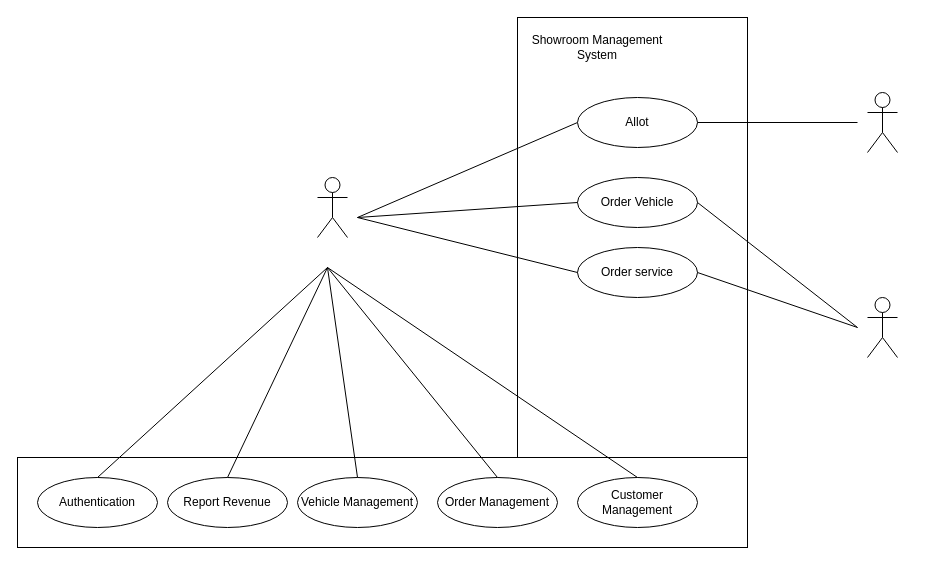
The diagram is 926 pixels wide and 565 high, and some of its shapes have lost their labels. The shapes that lost their labels are listed below. From the top down, each one's box as (x1, y1, x2, y2) in pixels, then its label:
(866, 92, 898, 152): Company
(316, 176, 348, 238): Dealer
(866, 296, 898, 358): Customer
